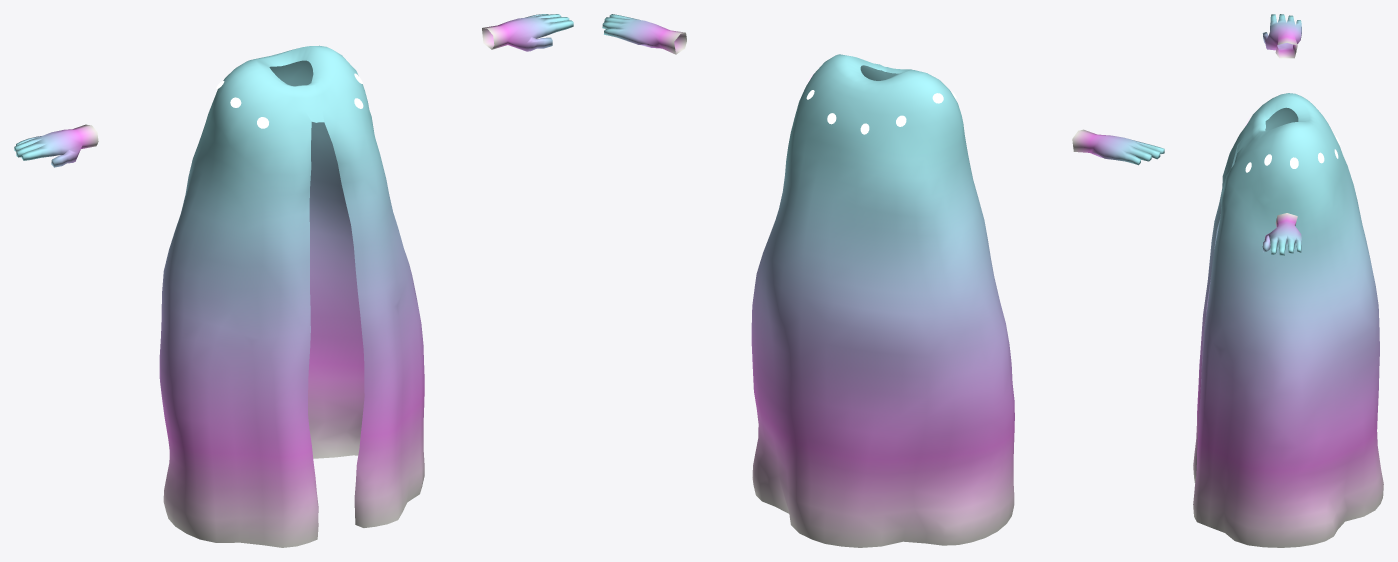
The model's file is Reaper-Amnesia_Body.glb.
3 views of the same model, side by side, from view 1: azimuth 30°, elevation 25°; view 2: azimuth 150°, elevation 25°; view 3: azimuth 270°, elevation 25° (orthographic). The views are drawn at different scales.
Visible parts, largest first — view 1: Reaper-Amnesia-Body; view 2: Reaper-Amnesia-Body; view 3: Reaper-Amnesia-Body.
Part boxes in pixels (box(x1,y1,x2,y2)): Reaper-Amnesia-Body: box(14, 14, 573, 547); Reaper-Amnesia-Body: box(602, 14, 1164, 547); Reaper-Amnesia-Body: box(1193, 14, 1383, 547).
Size of what is drawn, in the model's own units: 1.83 by 1.4 by 0.623.
Materials: 1 (1 with a texture image).
